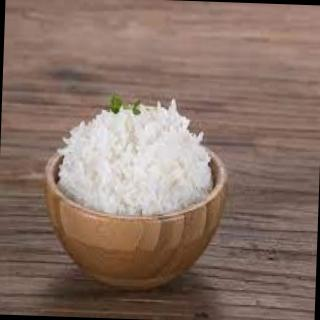Nasi: (55, 92, 218, 216)
